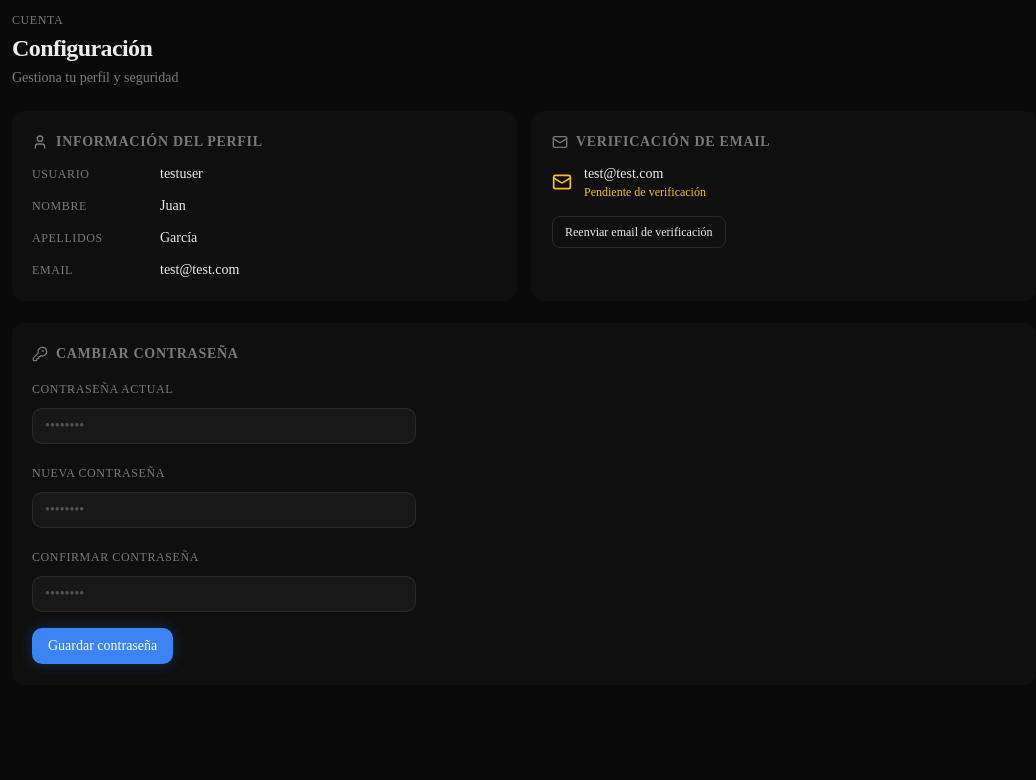
Test case: SettingsPage › resends verification email successfully
Click the button "Reenviar email de verificación".
click(639, 232)  # box x1=552 y1=216 x2=726 y2=248
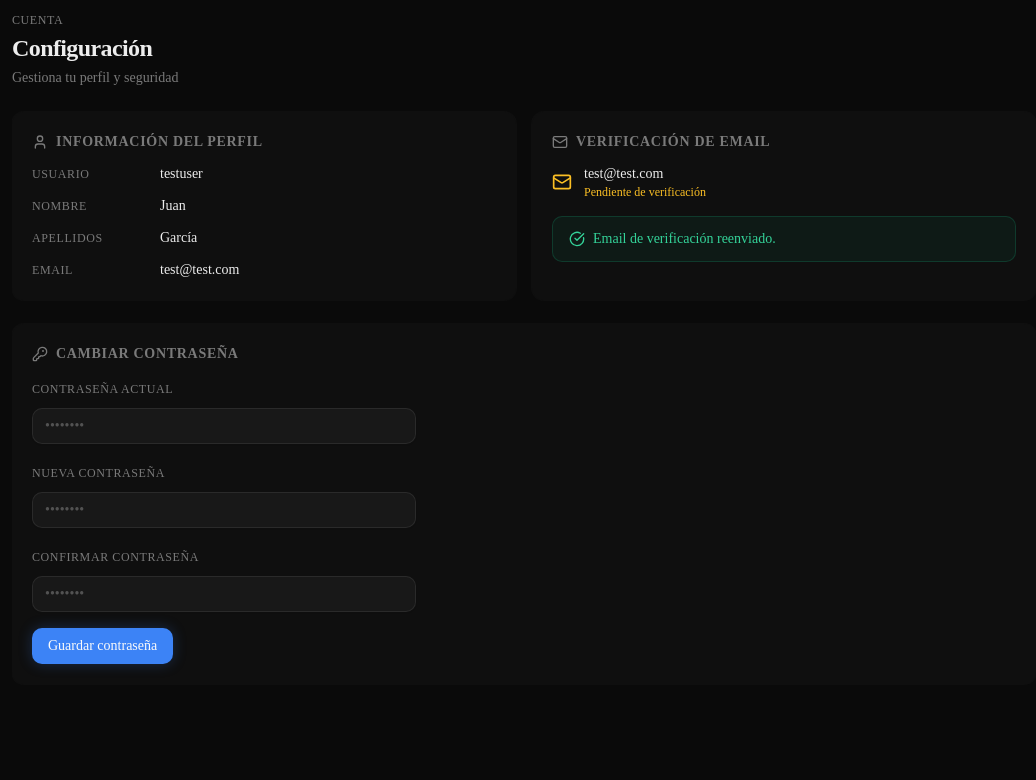
Check: the text "Email de verificación reenviado." is shown, box x1=593 y1=229 x2=776 y2=249
